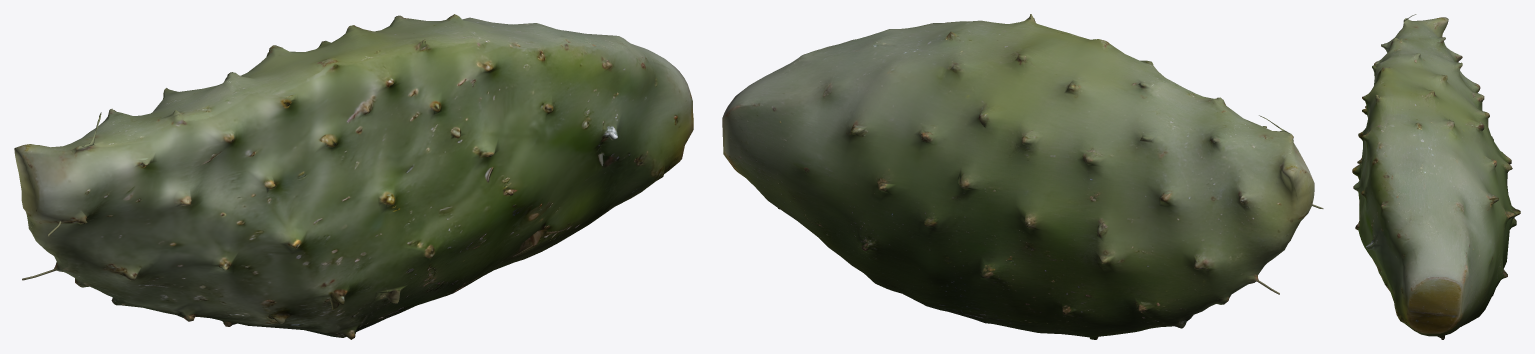
Rendered from cactusraw.fbx.
3 views of the same model, side by side, from view 1: azimuth 30°, elevation 25°; view 2: azimuth 150°, elevation 25°; view 3: azimuth 270°, elevation 25° (orthographic). The views are drawn at different scales.
Visible parts, largest first — view 1: mesh_rep_0_ori_repair.001; view 2: mesh_rep_0_ori_repair.001; view 3: mesh_rep_0_ori_repair.001.
Part boxes in pixels (box(x1,y1,x2,y2)): mesh_rep_0_ori_repair.001: box(14, 14, 693, 339); mesh_rep_0_ori_repair.001: box(722, 14, 1323, 339); mesh_rep_0_ori_repair.001: box(1352, 14, 1520, 339).
Bounding box in the file's own units: 116 × 52.34 × 38.75.
